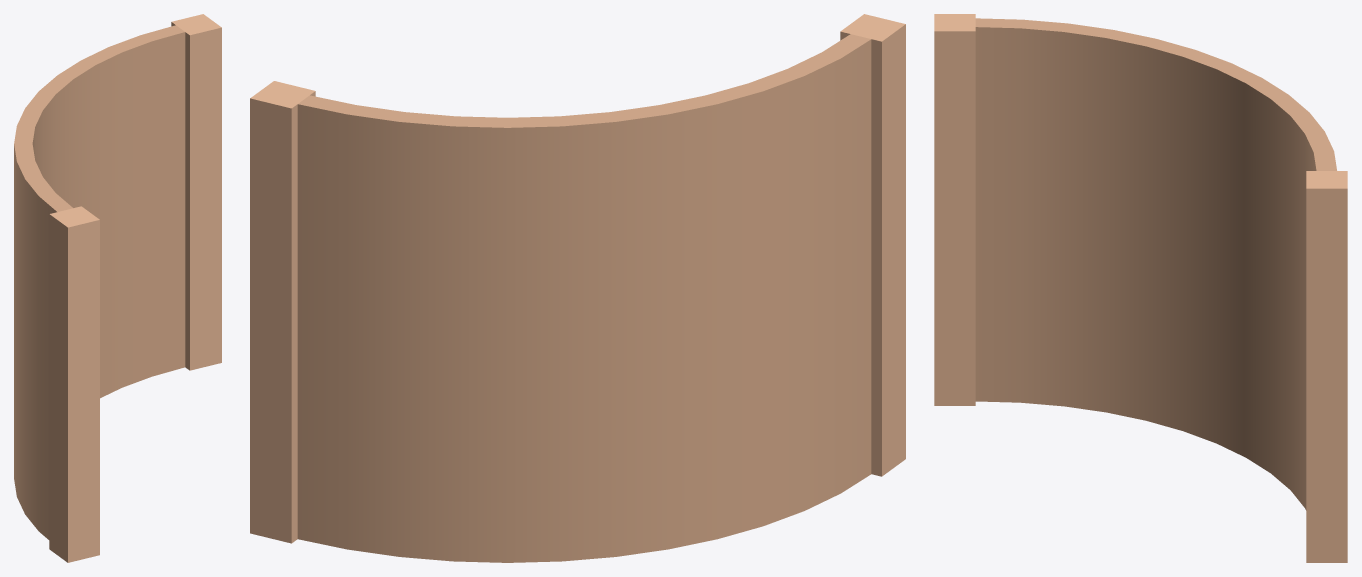
File: wallWoodCurved.glb
3 renders of one model, left to right at view 1: azimuth 30°, elevation 25°; view 2: azimuth 150°, elevation 25°; view 3: azimuth 270°, elevation 25°, orthographic. The views are drawn at different scales.
Visible parts, largest first — view 1: wallWoodCurved; view 2: wallWoodCurved; view 3: wallWoodCurved.
Boxes of the visible parts, x1,y1,x2,y2 form: wallWoodCurved: (14,14,221,562); wallWoodCurved: (250,14,905,562); wallWoodCurved: (934,14,1347,562).
Size of the model in its own units: 1 by 1 by 1.
